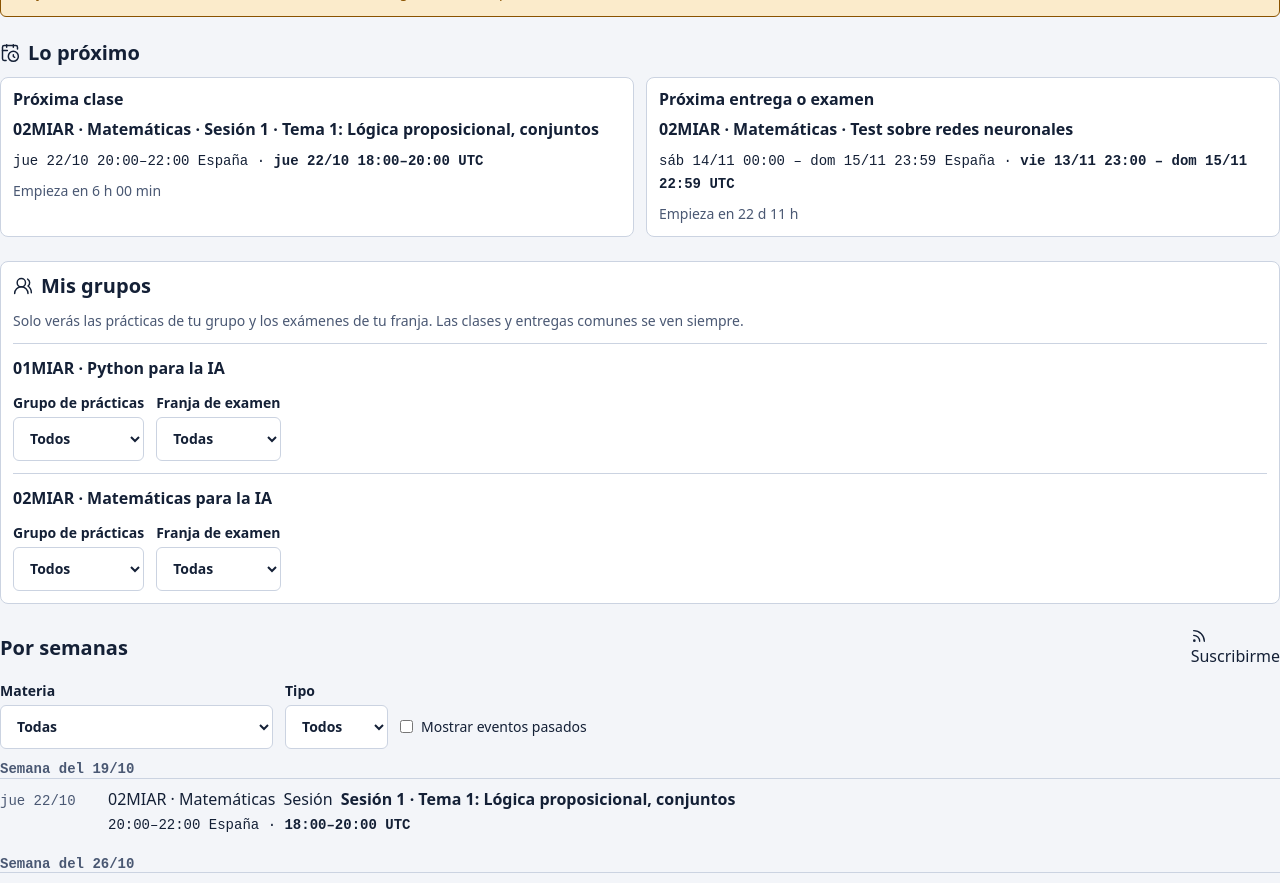
CalendarPage › «Suscribirme» con mis grupos ofrece la URL de mi selección y avisa de que es fija
(page scrolled)
Select "G3" in the dropdown labelled "Grupo de prácticas" below "01MIAR · Python para la IA" at point(79, 439), box x1=13 y1=417 x2=144 y2=461
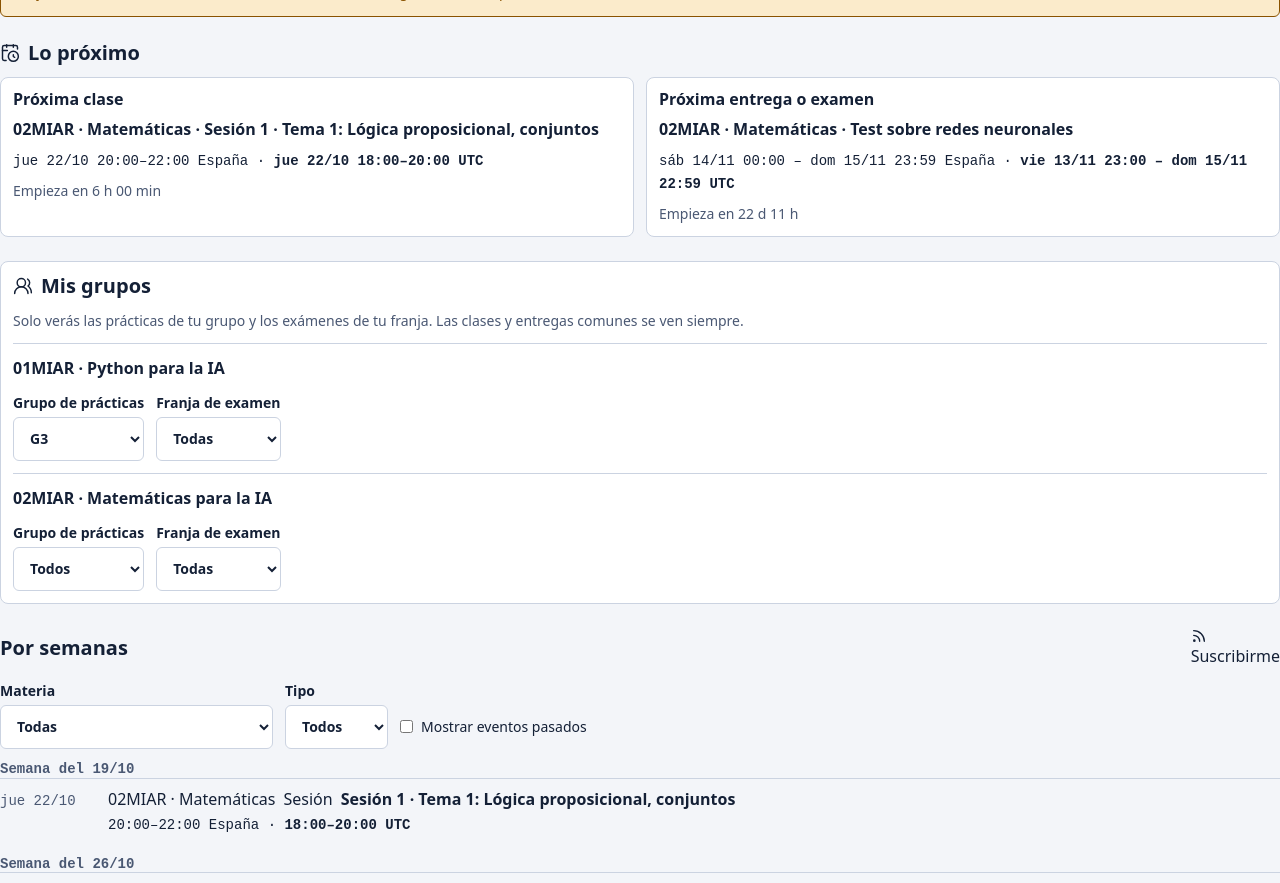
Click the button "Suscribirme".
click(1235, 648)  # box x1=1191 y1=628 x2=1279 y2=668
(page scrolled)
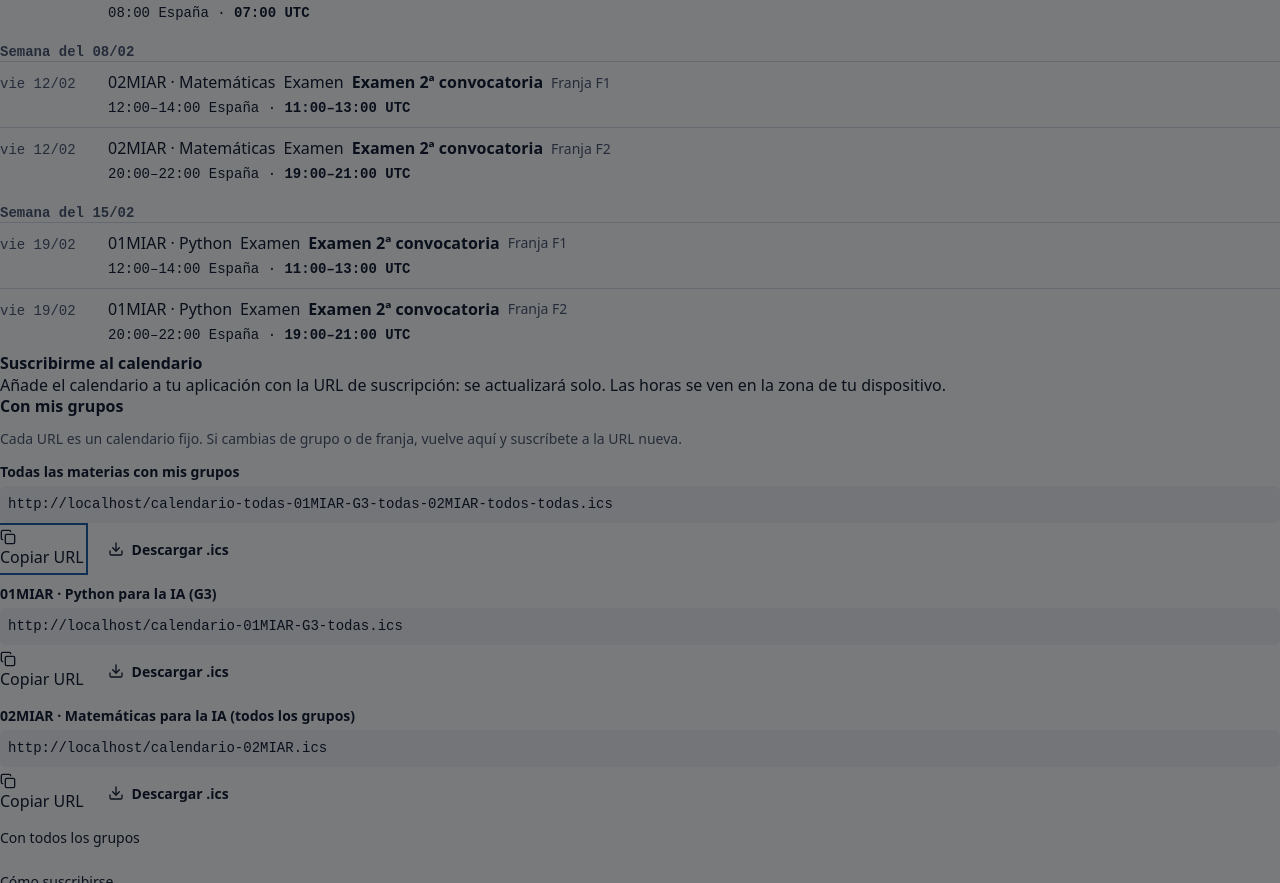
Check: the text "Todas las materias con mis grupos" is shown, box x1=0 y1=462 x2=240 y2=481
Check: the text "01MIAR · Python para la IA (G3)" is shown, box x1=0 y1=584 x2=217 y2=603
Check: the text "02MIAR · Matemáticas para la IA (todos los grupos)" is shown, box x1=0 y1=706 x2=355 y2=725
